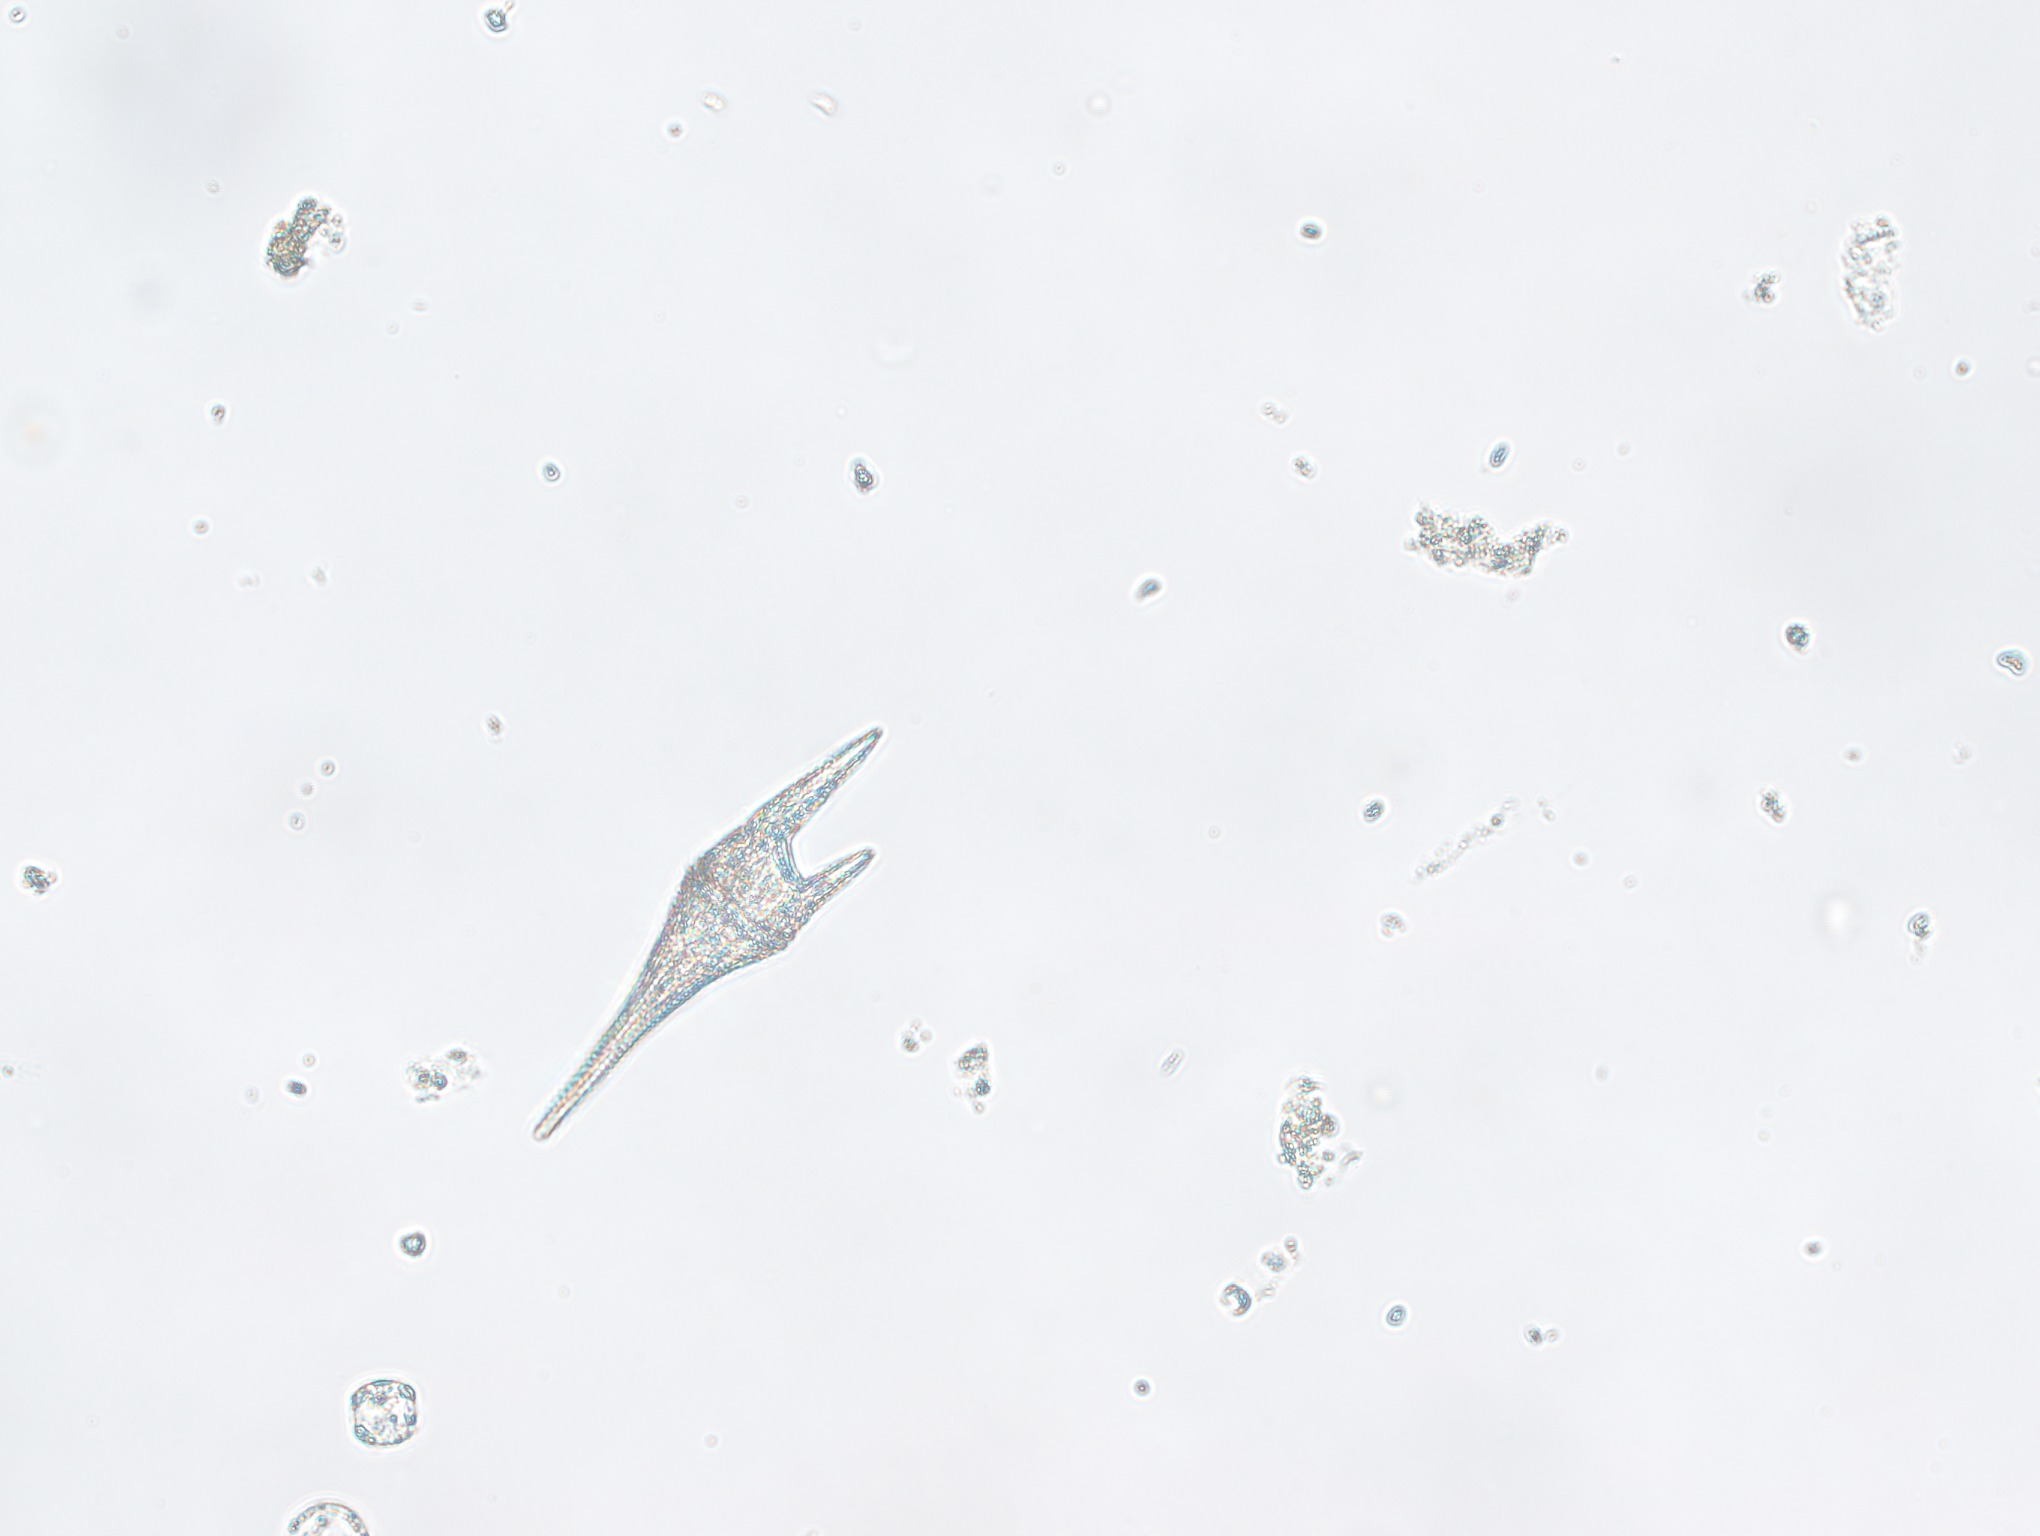ceratium furca: (531, 712, 897, 1160)
